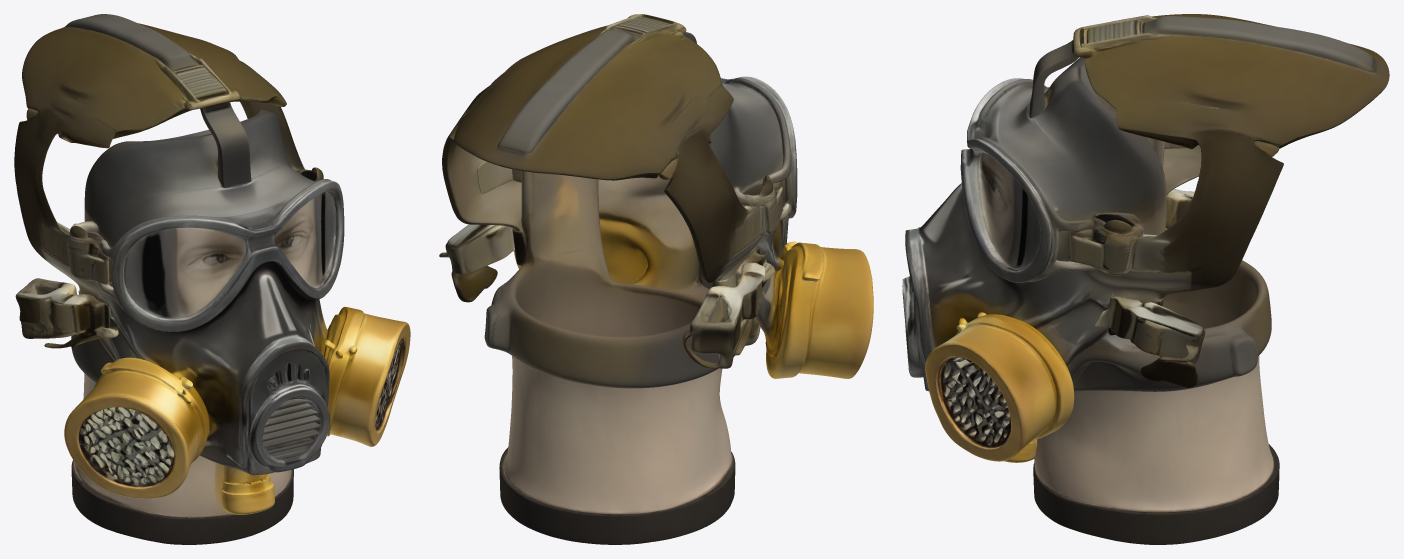
File: gas_mask.glb
3 views of the same model, side by side, from view 1: azimuth 30°, elevation 25°; view 2: azimuth 150°, elevation 25°; view 3: azimuth 270°, elevation 25° (orthographic). The views are drawn at different scales.
Parts seen in each view (by area): view 1: model; view 2: model; view 3: model.
Boxes of the visible parts, left/top/right/bottom form: model: left=14, top=14, right=410, bottom=544; model: left=439, top=14, right=873, bottom=544; model: left=902, top=14, right=1389, bottom=544.
Size of the model in its own units: 1.53 by 1.9 by 1.77.
Materials: 1 (1 with a texture image).
